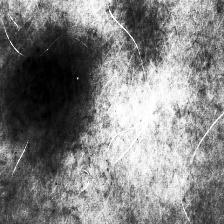Benign Marking or Mole: (4, 41, 98, 157)
